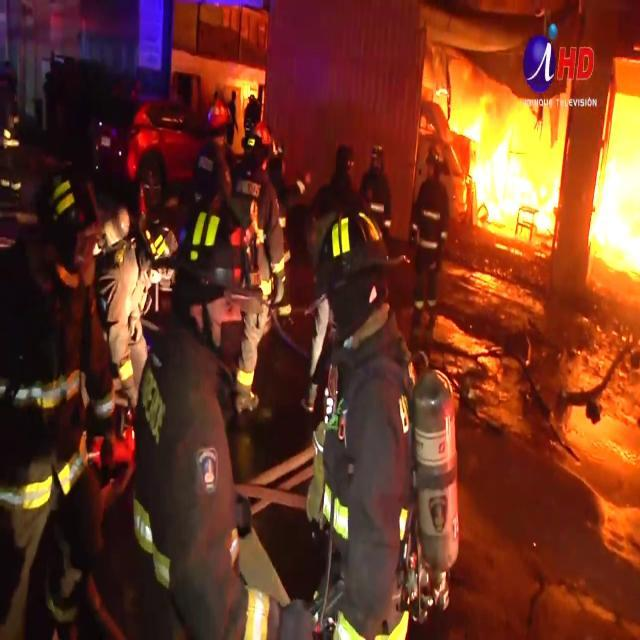Fire: (434, 72, 564, 239), (589, 109, 640, 299)
